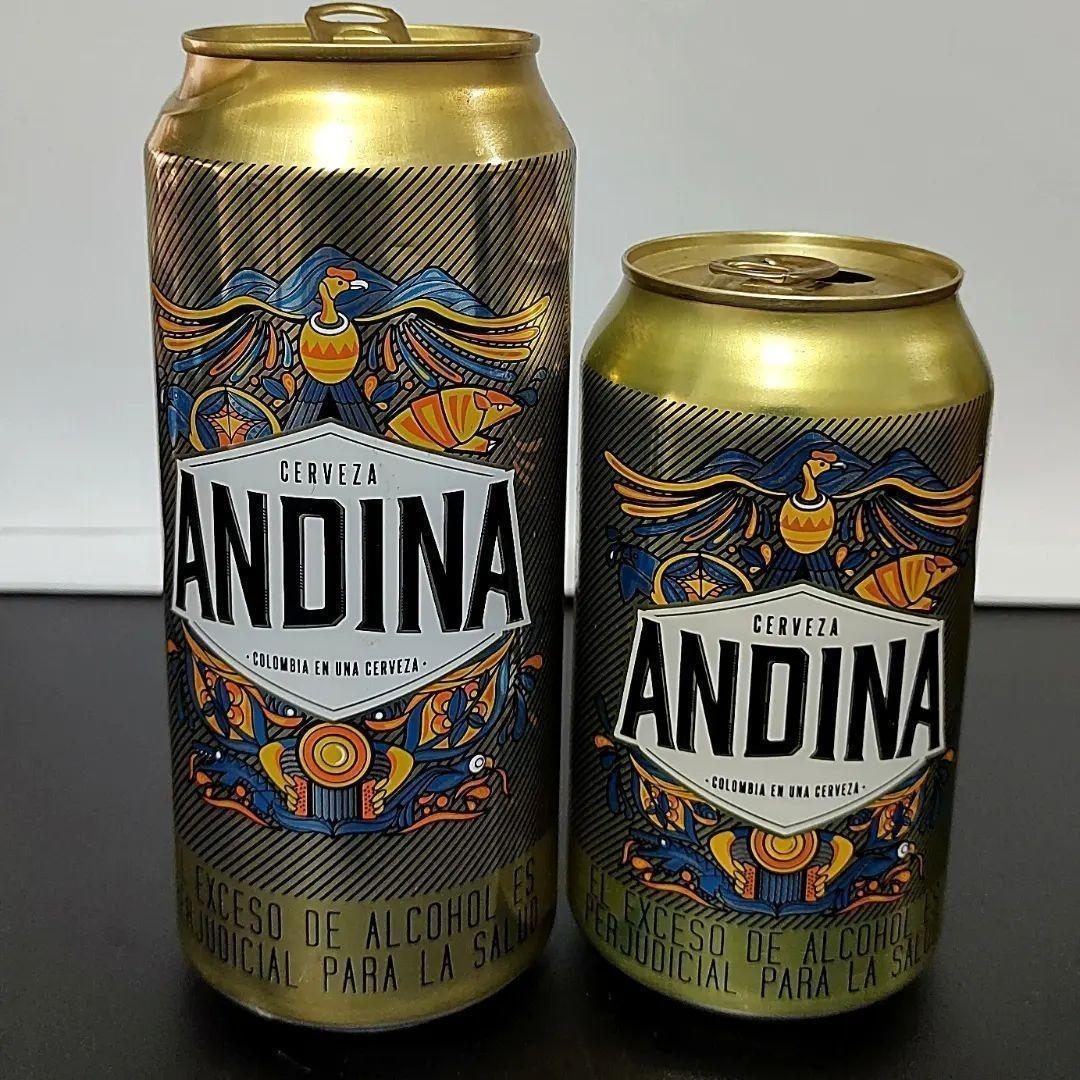tin can: (139, 4, 578, 1039), (569, 219, 997, 1030)
